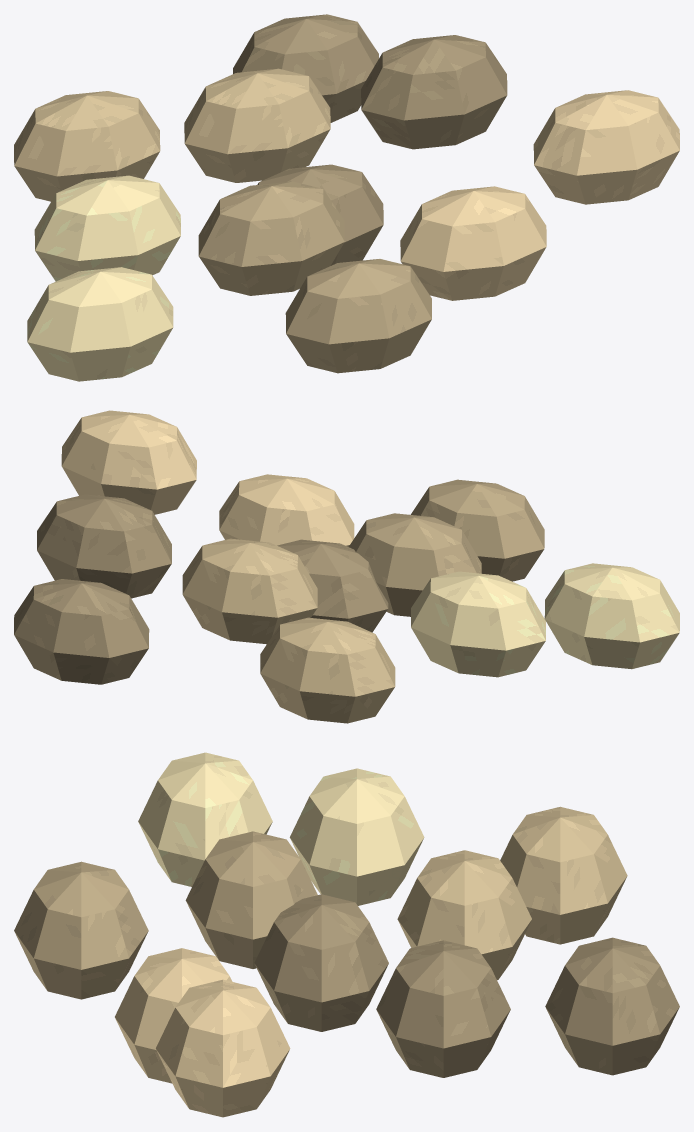
The model's file is popcorn3.glb.
The picture shows the model from 3 angles, top to bottom: view 1: azimuth 30°, elevation 25°; view 2: azimuth 150°, elevation 25°; view 3: azimuth 270°, elevation 25°; orthographic projection. The views are drawn at different scales.
Visible parts, largest first — view 1: block_snack pieces (×11); view 2: block_snack pieces (×11); view 3: block_snack pieces (×11).
Boxes of the visible parts, x1,y1,x2,y2 form: block_snack pieces (×11): [14, 14, 679, 381]; block_snack pieces (×11): [14, 410, 679, 723]; block_snack pieces (×11): [14, 752, 679, 1117].
Size of the model in its own units: 0.0756 by 0.0165 by 0.0597.
1 material, 1 textured.
